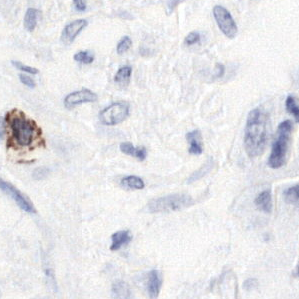Lymphocyte: (4, 108, 45, 158)
